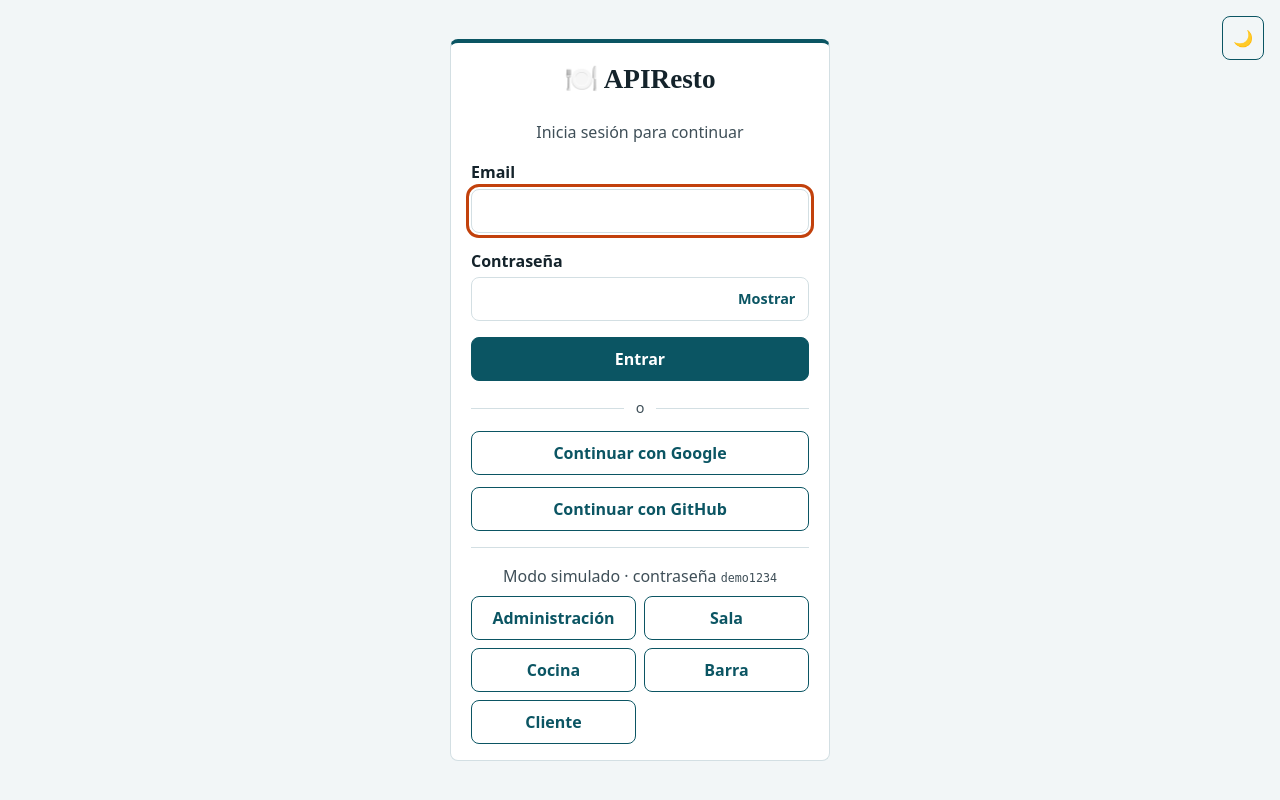
Test: login y navegación por rol (modo simulado) › al iniciar sesión, camarero@restoapi.dev entra en Inicio (Hola, Camarero Demo)
The width and height of the screenshot is (1280, 800).
Type "camarero@restoapi.dev" into the field labelled "Email".
click(640, 211); type("camarero@restoapi.dev")  # box 471,189 -> 809,233
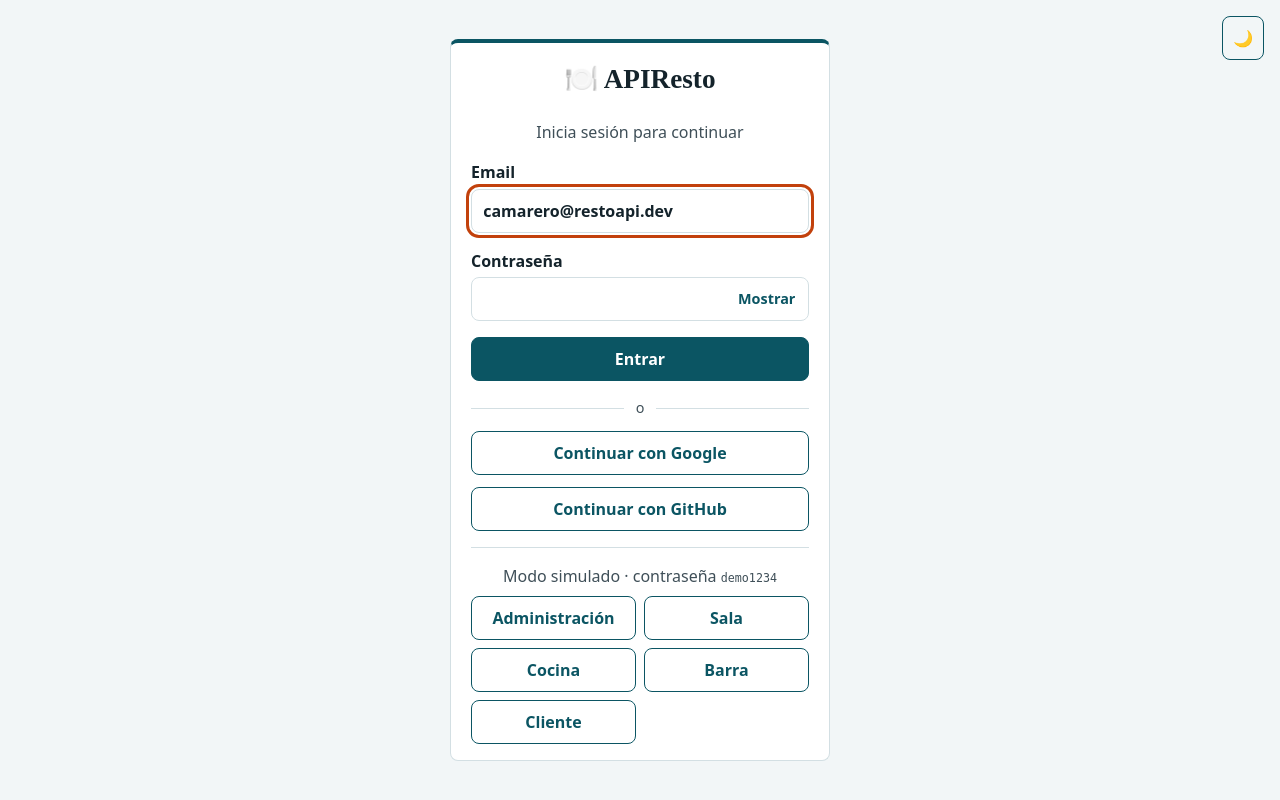
Type "demo1234" into the password field labelled "Contraseña".
click(640, 299); type("demo1234")  # box 471,277 -> 809,321
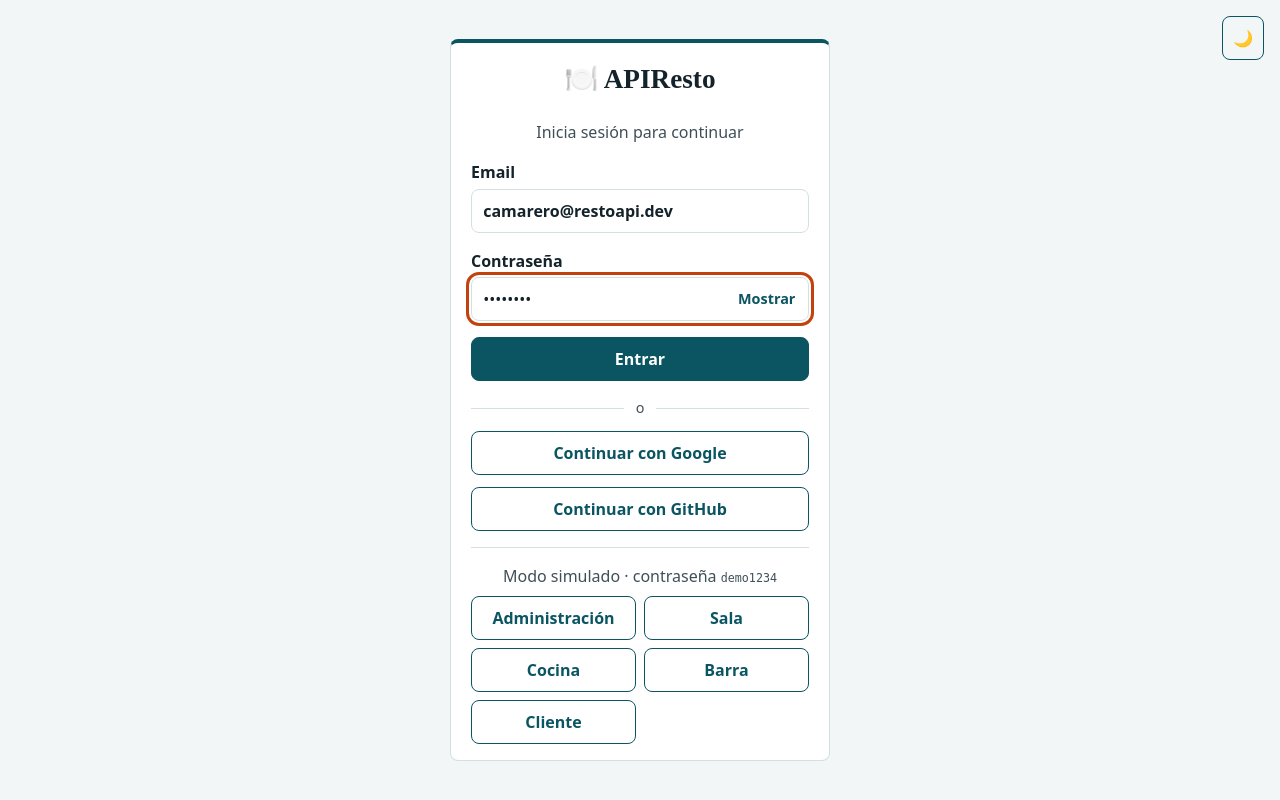
Click the button "Entrar".
click(640, 359)  # box 471,337 -> 809,381
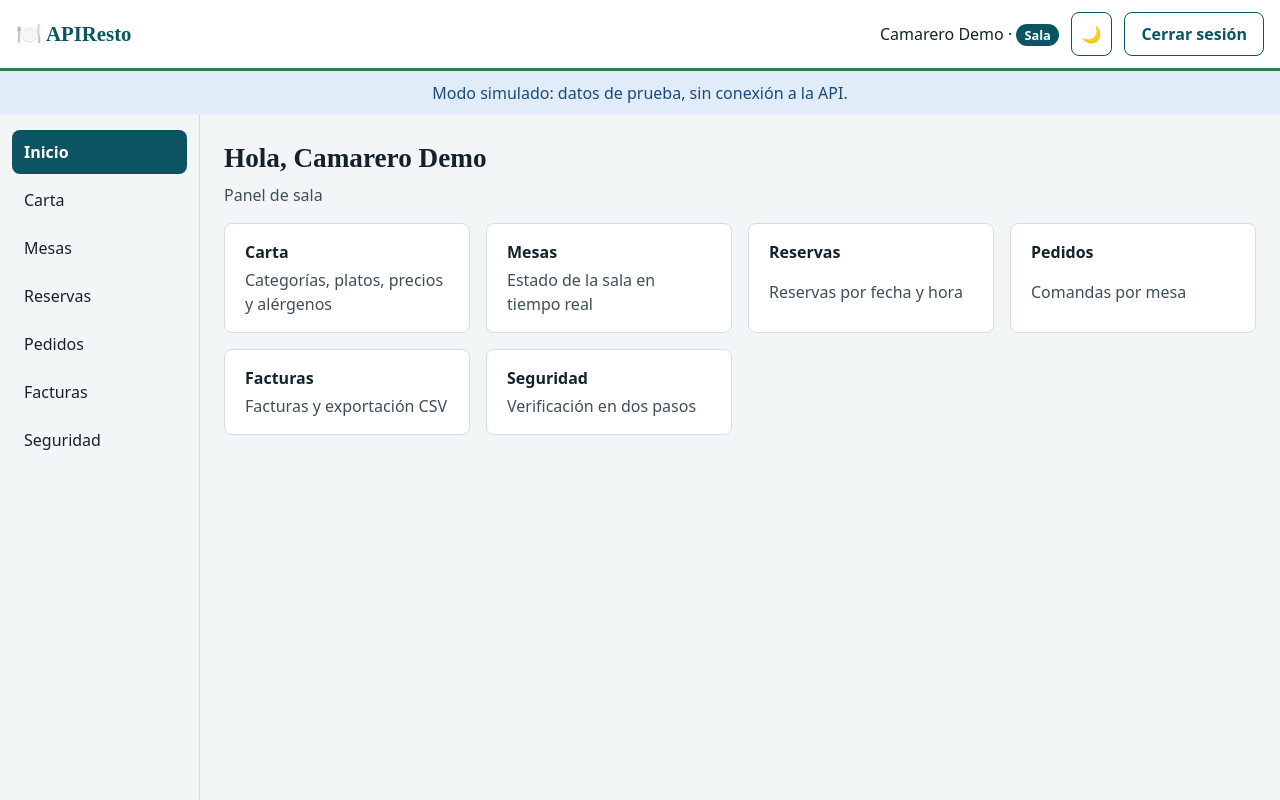
Now the heading "Hola, Camarero Demo" is shown, box 224,143 -> 486,173
